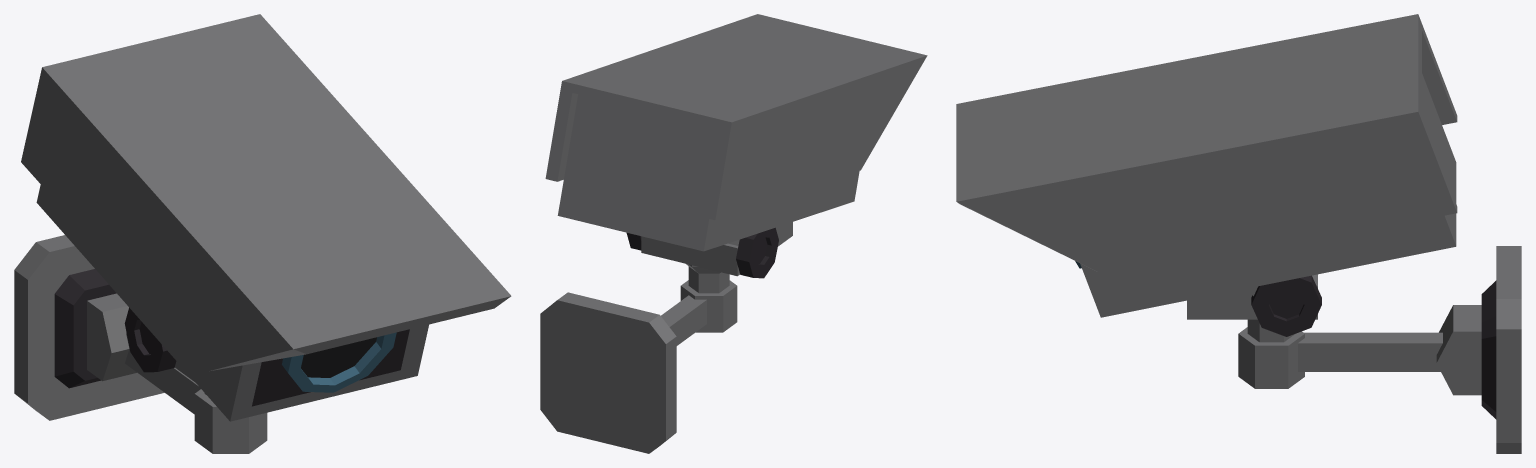
The model's file is Camera.fbx.
3 renders of one model, left to right at view 1: azimuth 30°, elevation 25°; view 2: azimuth 150°, elevation 25°; view 3: azimuth 270°, elevation 25°, orthographic. The views are drawn at different scales.
Visible parts, largest first — view 1: SM_Prop_Security_Camera_02_Top, SM_Prop_Security_Camera_02; view 2: SM_Prop_Security_Camera_02_Top, SM_Prop_Security_Camera_02; view 3: SM_Prop_Security_Camera_02_Top, SM_Prop_Security_Camera_02.
Part boxes in pixels (box(x1,y1,x2,y2)): SM_Prop_Security_Camera_02_Top: box(21, 14, 511, 421); SM_Prop_Security_Camera_02: box(14, 235, 267, 453); SM_Prop_Security_Camera_02_Top: box(545, 14, 927, 278); SM_Prop_Security_Camera_02: box(540, 264, 737, 453); SM_Prop_Security_Camera_02_Top: box(956, 14, 1457, 336); SM_Prop_Security_Camera_02: box(1238, 246, 1521, 453).
Bounding box in the file's own units: 980 × 1705 × 2395.
1 material, 1 textured.
